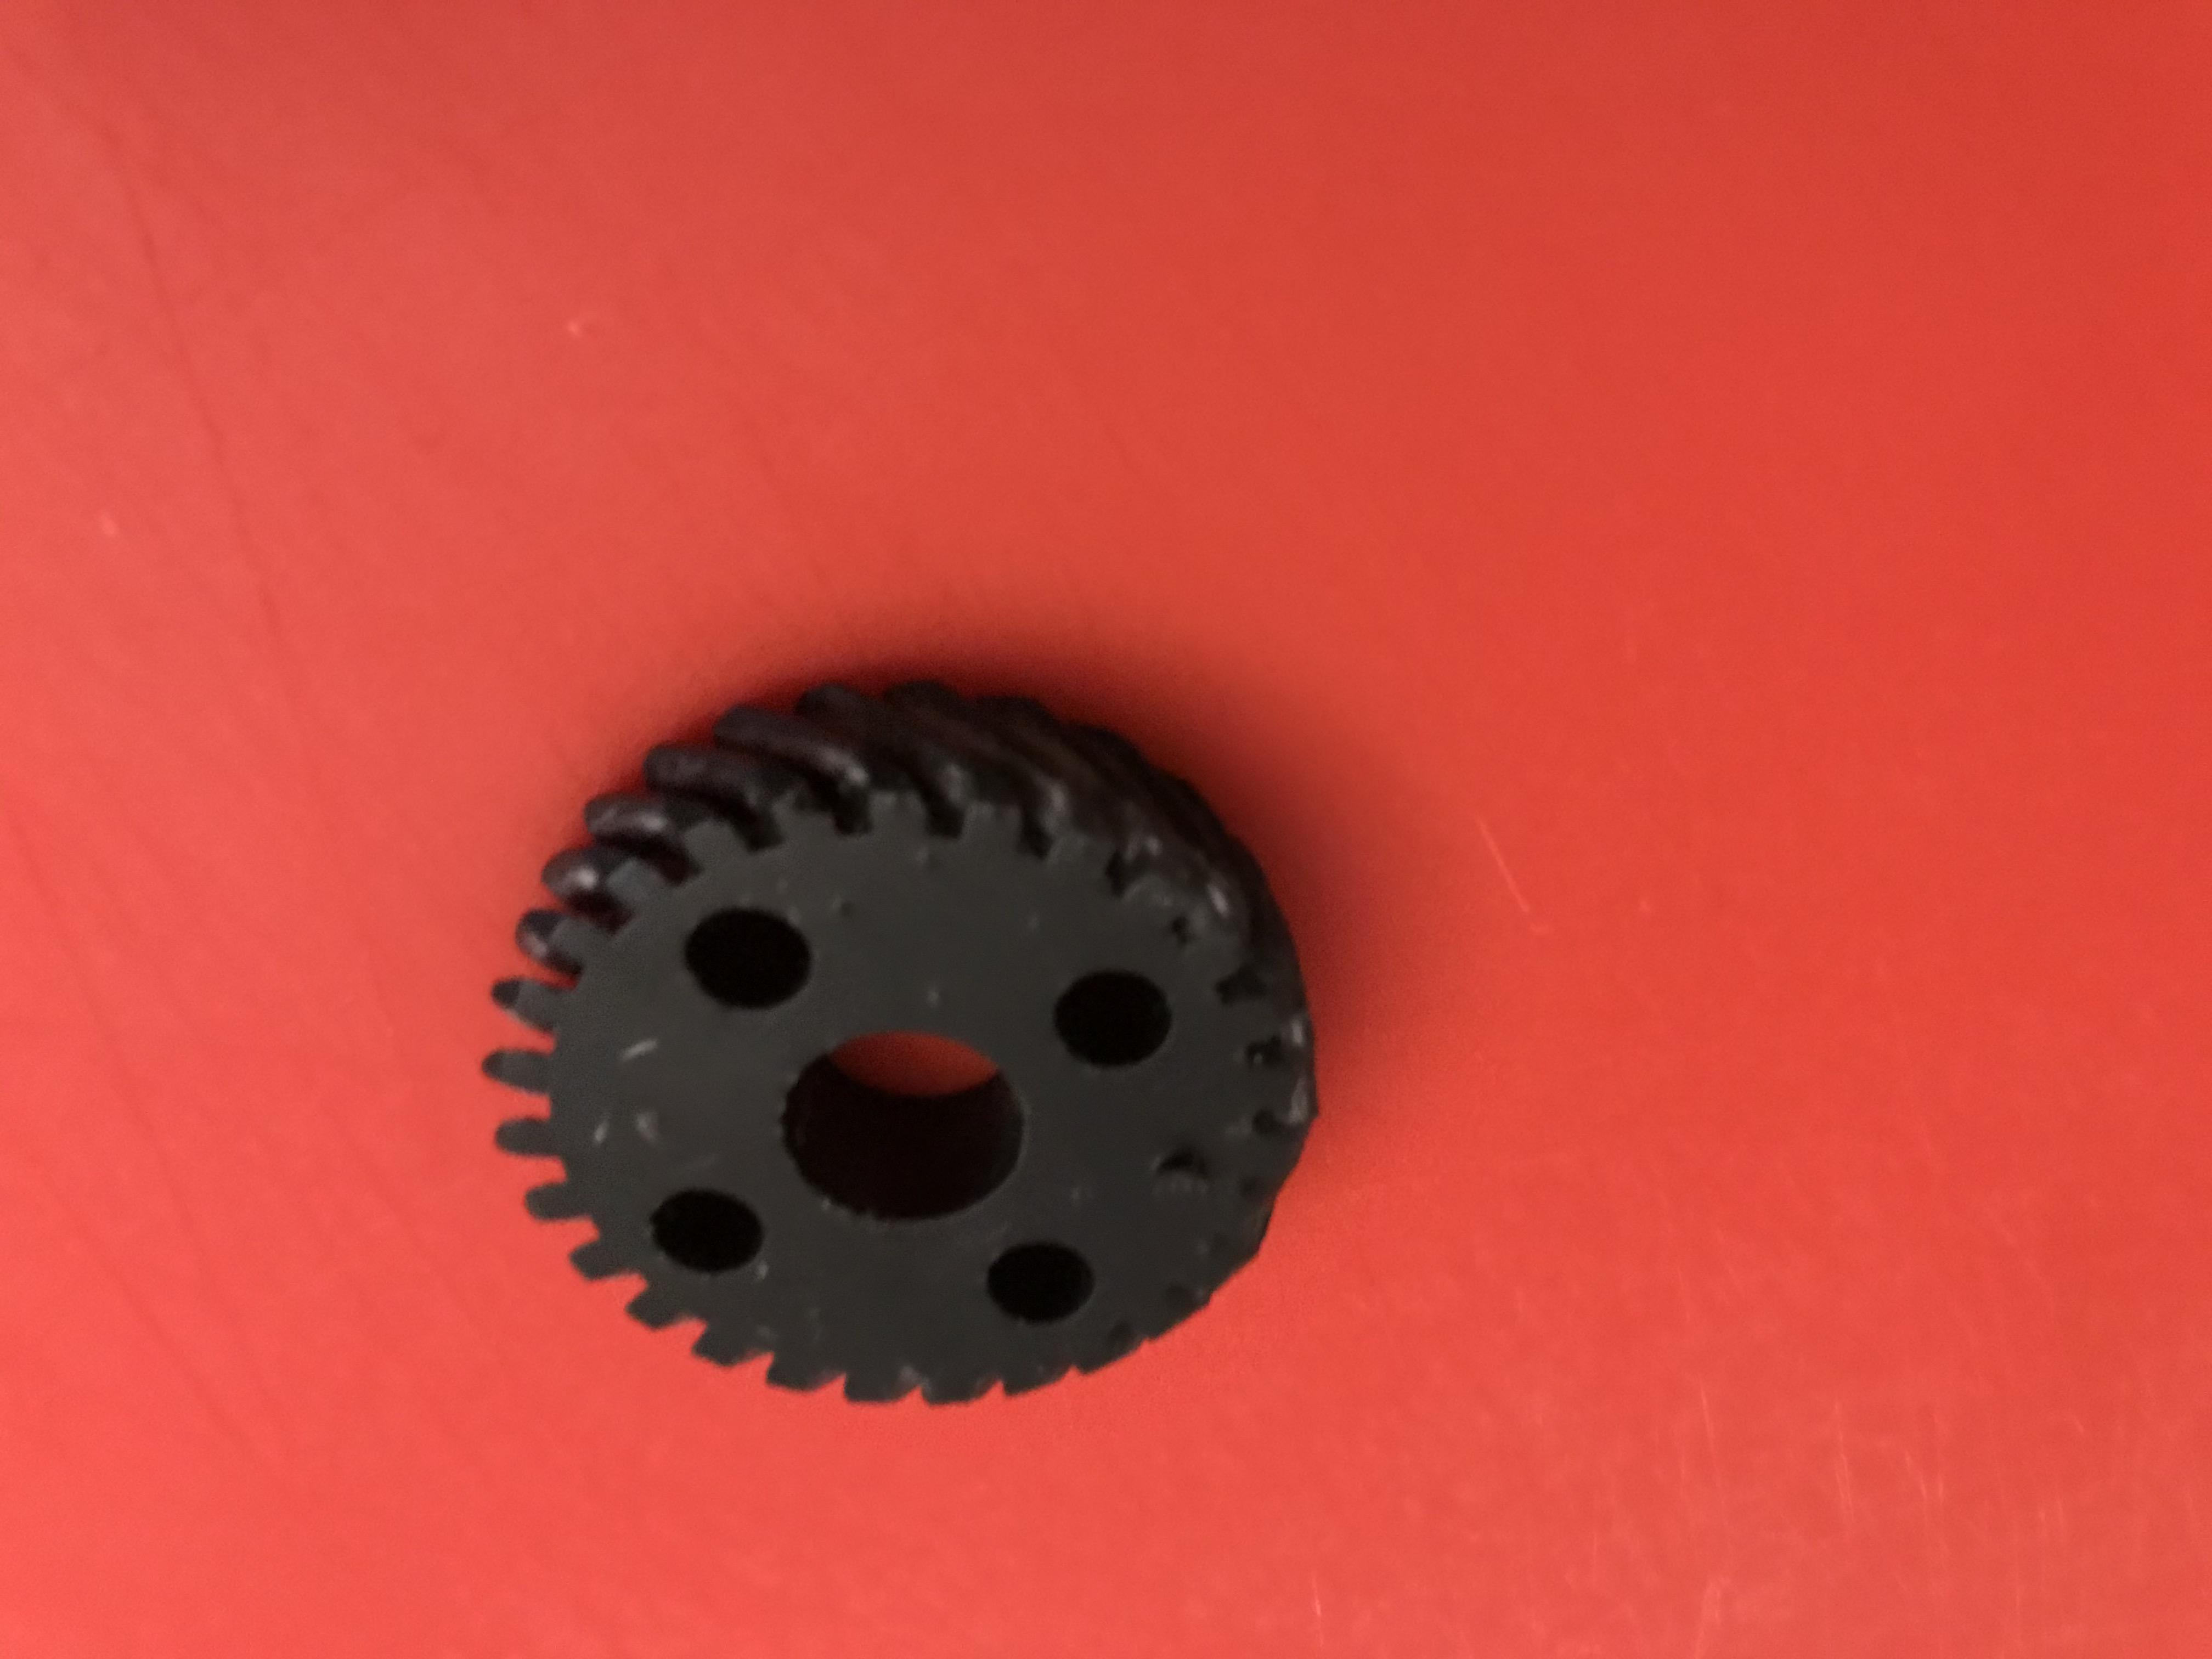Wheel: (475, 678, 1329, 1417)
